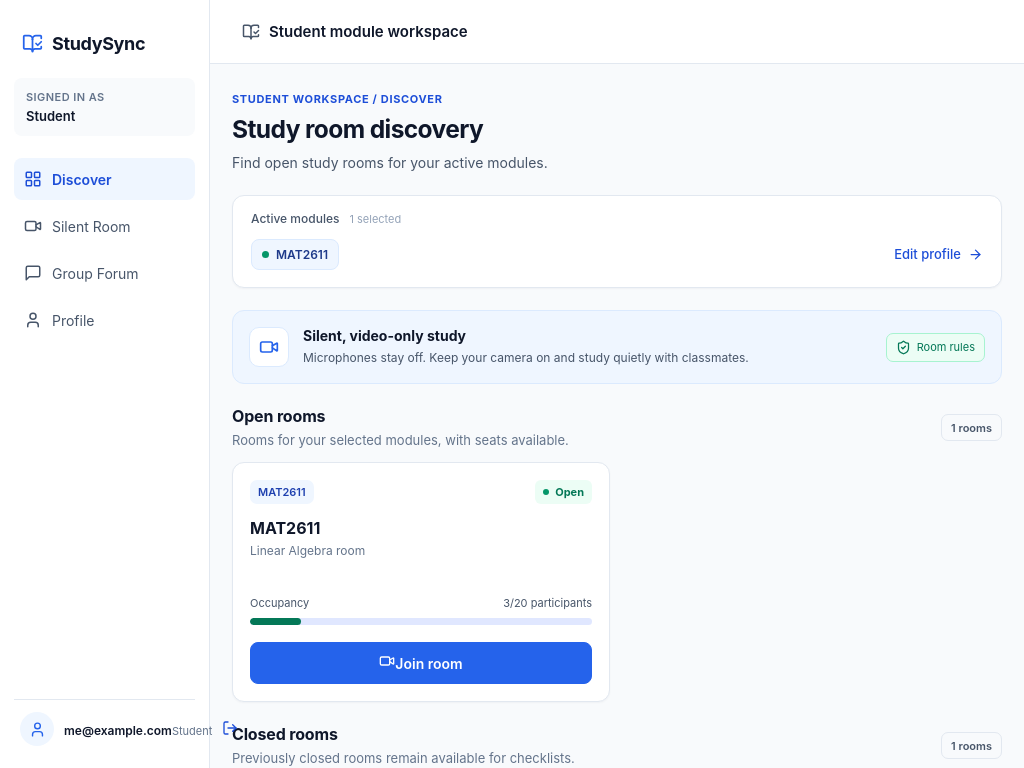
it: StudySync live screens › opens a joined room and shows the live checklist
The image size is (1024, 768).
Click the button "Join room" at (421, 663), box [250,642,592,684]
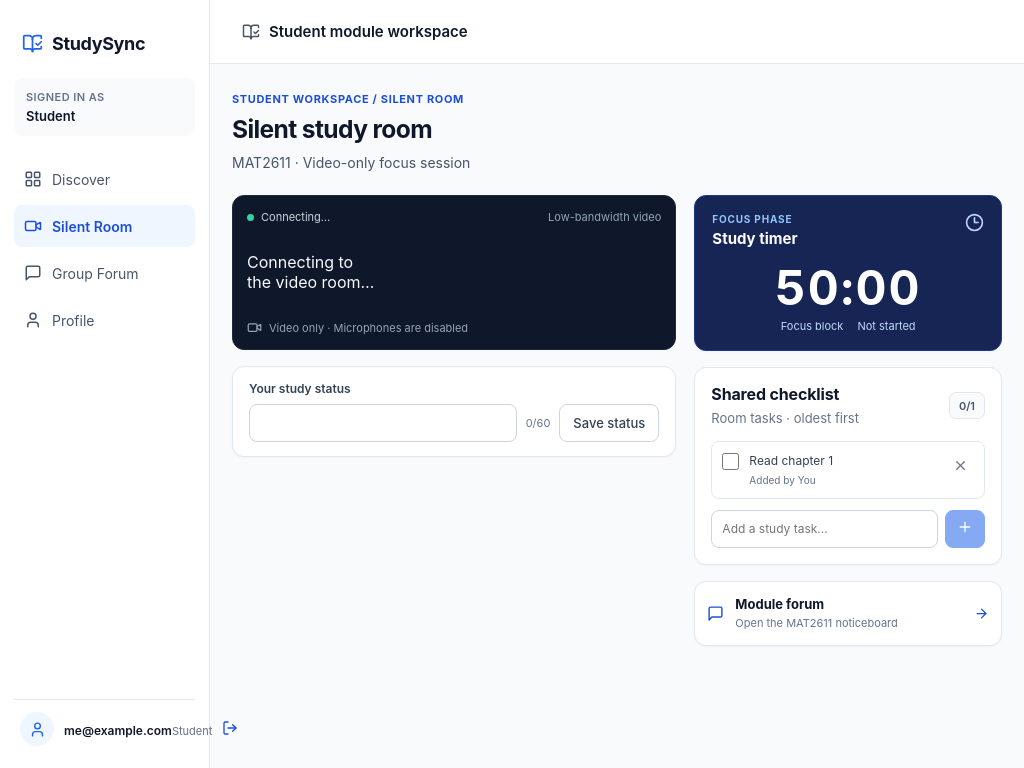
Result: the text "Read chapter 1" is shown at [749,453,833,468]
